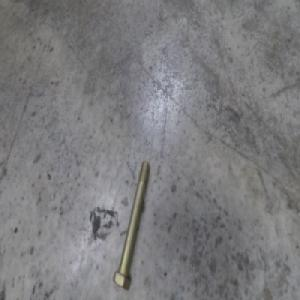Bolt: (110, 156, 147, 293)
